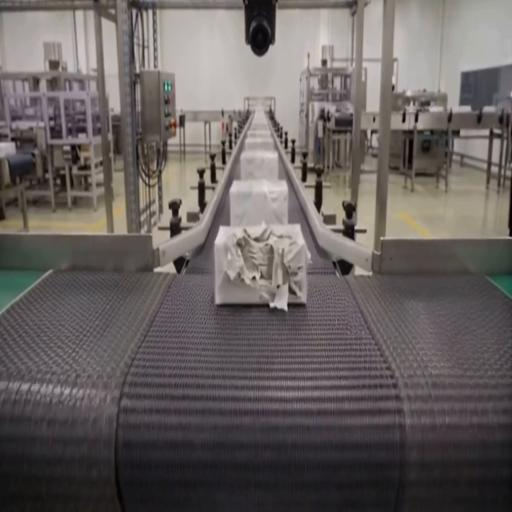defective: (213, 222, 310, 308)
good: (228, 179, 289, 229), (239, 149, 280, 181), (241, 116, 274, 146), (0, 141, 17, 160)
